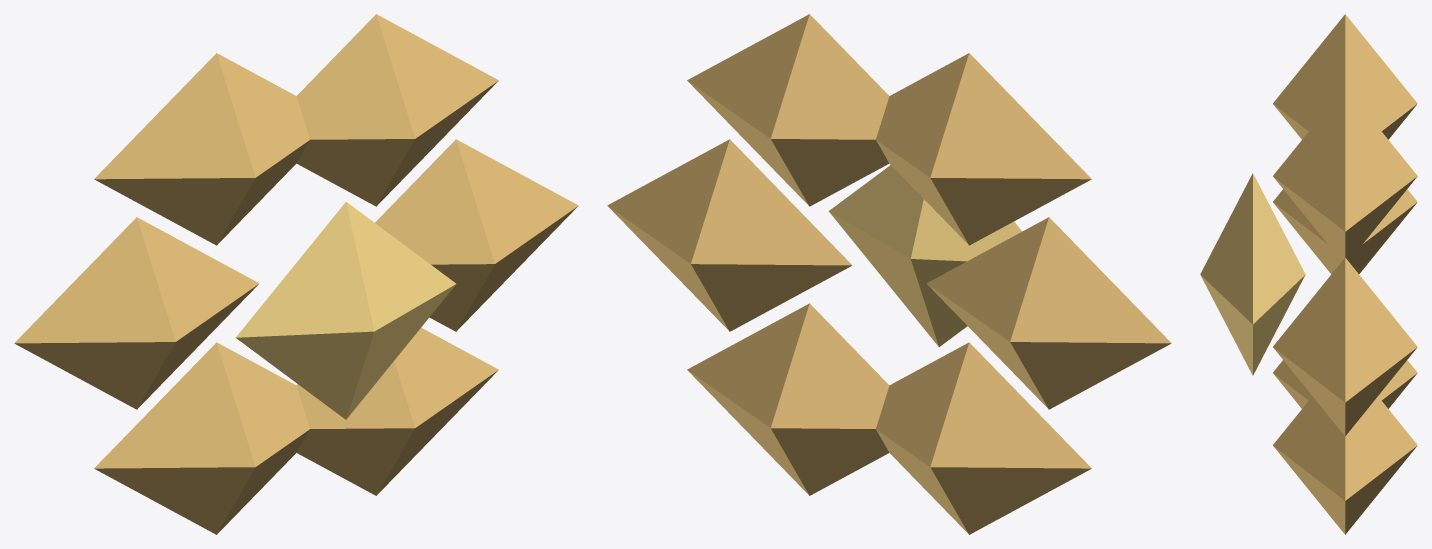
File: Desert_Accent.fbx
3 views of the same model, side by side, from view 1: azimuth 30°, elevation 25°; view 2: azimuth 150°, elevation 25°; view 3: azimuth 270°, elevation 25° (orthographic). The views are drawn at different scales.
Parts seen in each view (by area): view 1: Desert_Accent; view 2: Desert_Accent; view 3: Desert_Accent.
Boxes of the visible parts, x1,y1,x2,y2 form: Desert_Accent: (14,14,578,534); Desert_Accent: (607,14,1171,534); Desert_Accent: (1200,14,1417,534).
Bounding box in the file's own units: 46 × 37.52 × 16.5.
